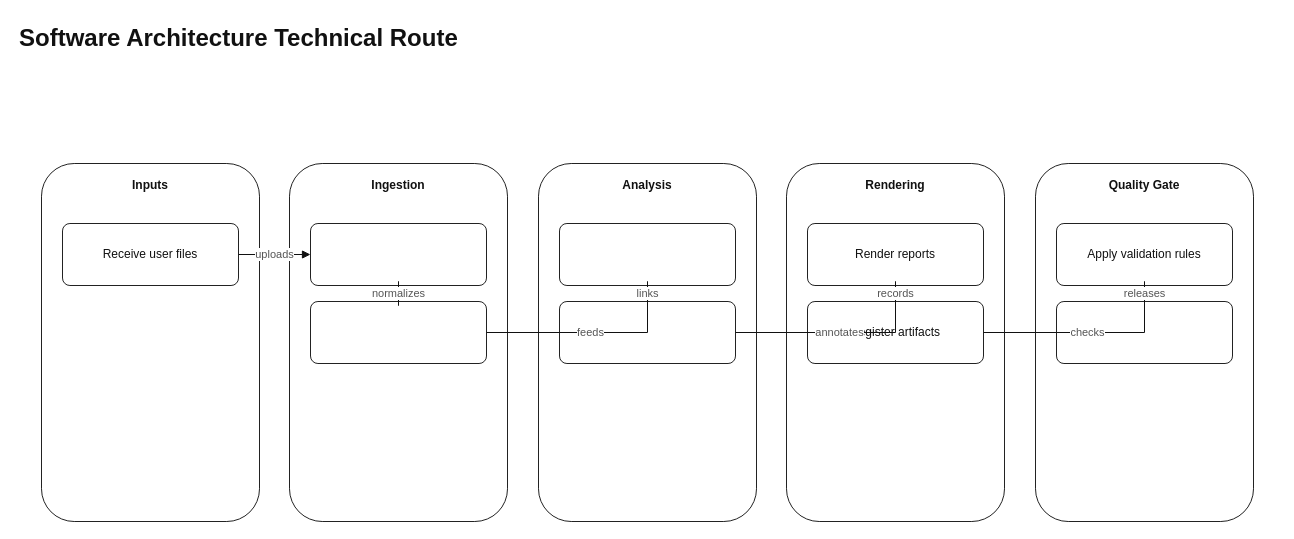
This 1294x539 diagram has some shape labels left out. Each missing label, with the box of its shape:
Normalize data store: (310, 300, 486, 364)
Publish through CI: (1056, 300, 1232, 364)
Run analysis engine: (558, 222, 736, 286)
Run ingestion service: (310, 222, 486, 286)
Track provenance: (558, 300, 736, 364)
